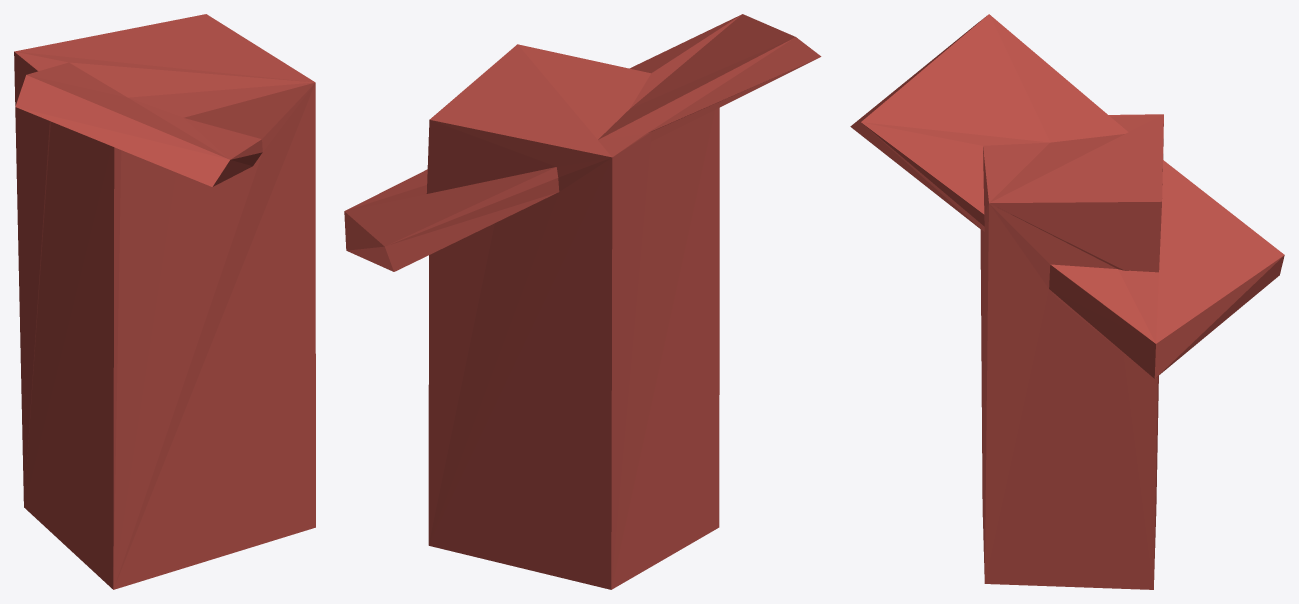
3 renders of one model, left to right at view 1: azimuth 30°, elevation 25°; view 2: azimuth 150°, elevation 25°; view 3: azimuth 270°, elevation 25°, orthographic. The views are drawn at different scales.
Visible parts, largest first — view 1: 416_Cube.1690; view 2: 416_Cube.1690; view 3: 416_Cube.1690.
Boxes of the visible parts, bbox=[...] form: 416_Cube.1690: bbox=[14, 14, 315, 589]; 416_Cube.1690: bbox=[344, 14, 821, 589]; 416_Cube.1690: bbox=[850, 14, 1284, 589].
Size of the model in its own units: 11.18 by 14.55 by 12.48.
